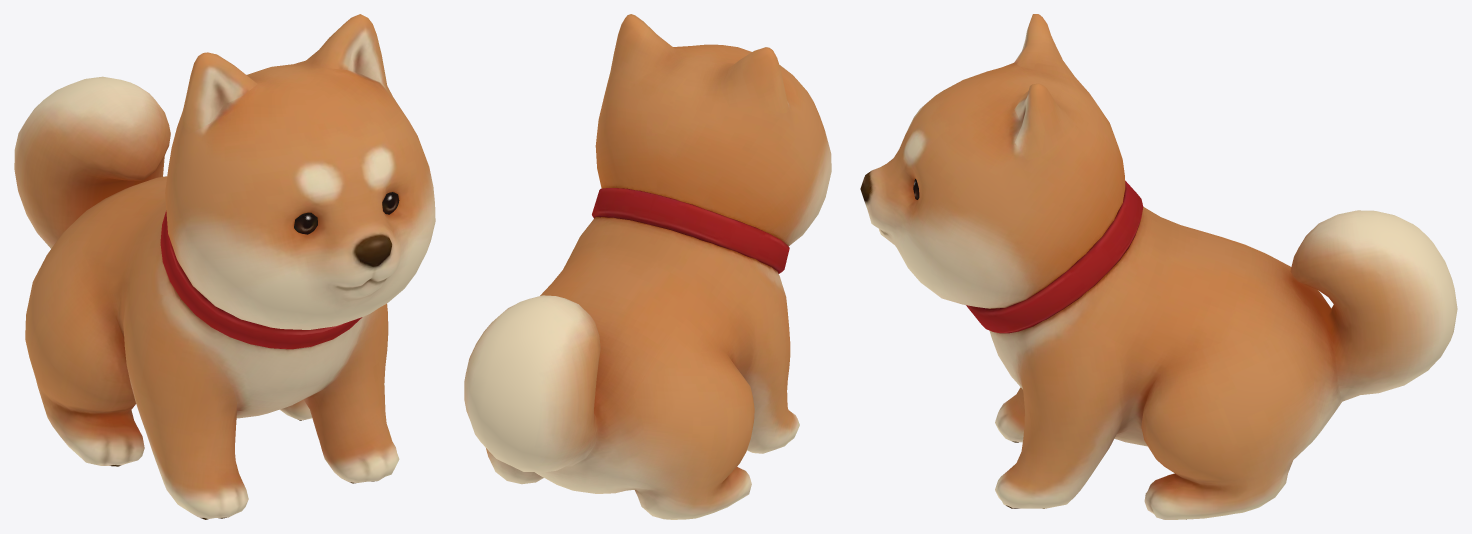
File: shiba-transformed.glb
3 renders of one model, left to right at view 1: azimuth 30°, elevation 25°; view 2: azimuth 150°, elevation 25°; view 3: azimuth 270°, elevation 25°, orthographic. The views are drawn at different scales.
Parts seen in each view (by area): view 1: Group18985_default_0; view 2: Group18985_default_0; view 3: Group18985_default_0.
Boxes of the visible parts, bbox=[...] form: Group18985_default_0: bbox=[14, 14, 435, 519]; Group18985_default_0: bbox=[464, 14, 831, 519]; Group18985_default_0: bbox=[860, 14, 1457, 519].
Size of the model in its own units: 0.9208 by 1.38 by 1.77.
Materials: 1 (1 with a texture image).
